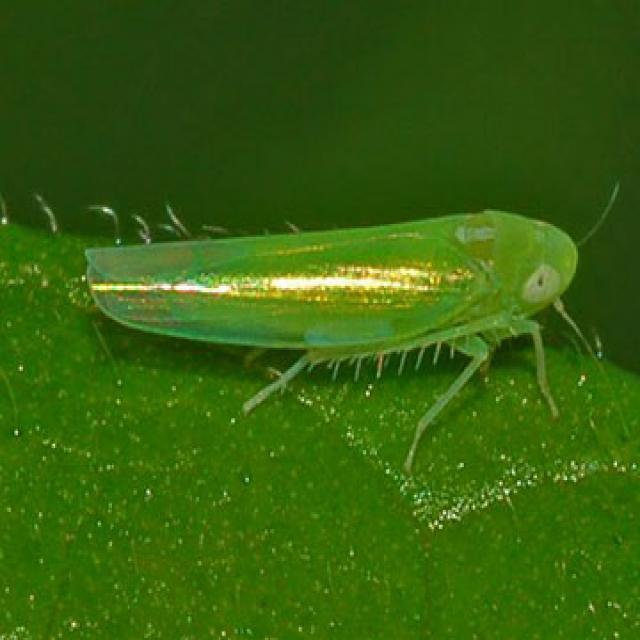Yechan: (66, 182, 604, 423)
